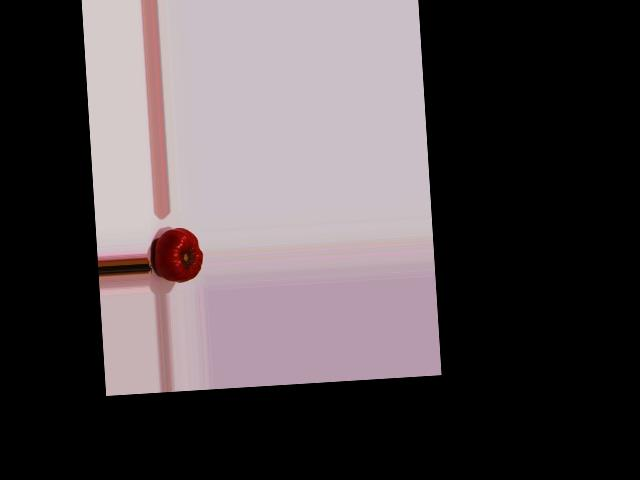tomato: (153, 227, 203, 283)
